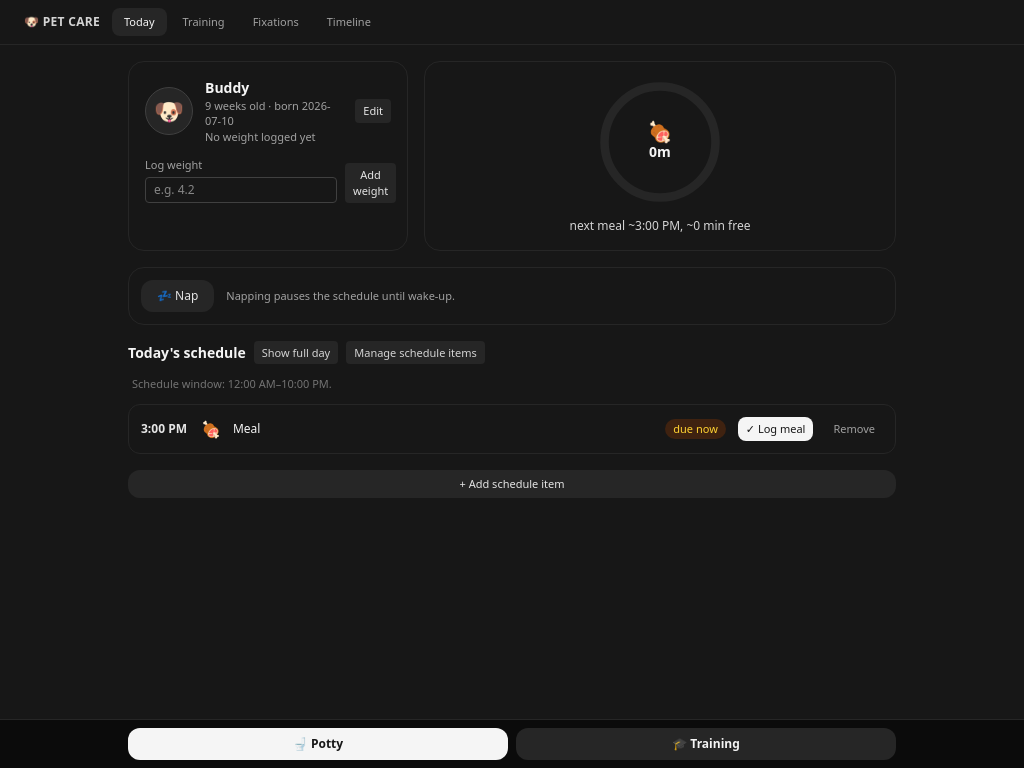
Test: PetPage › fulfills a due-now fixed item from its schedule card
Expected: the text "due now" is shown, [665, 419, 726, 439]
Click the button "✓ Log meal": (776, 429) [738, 417, 813, 441]
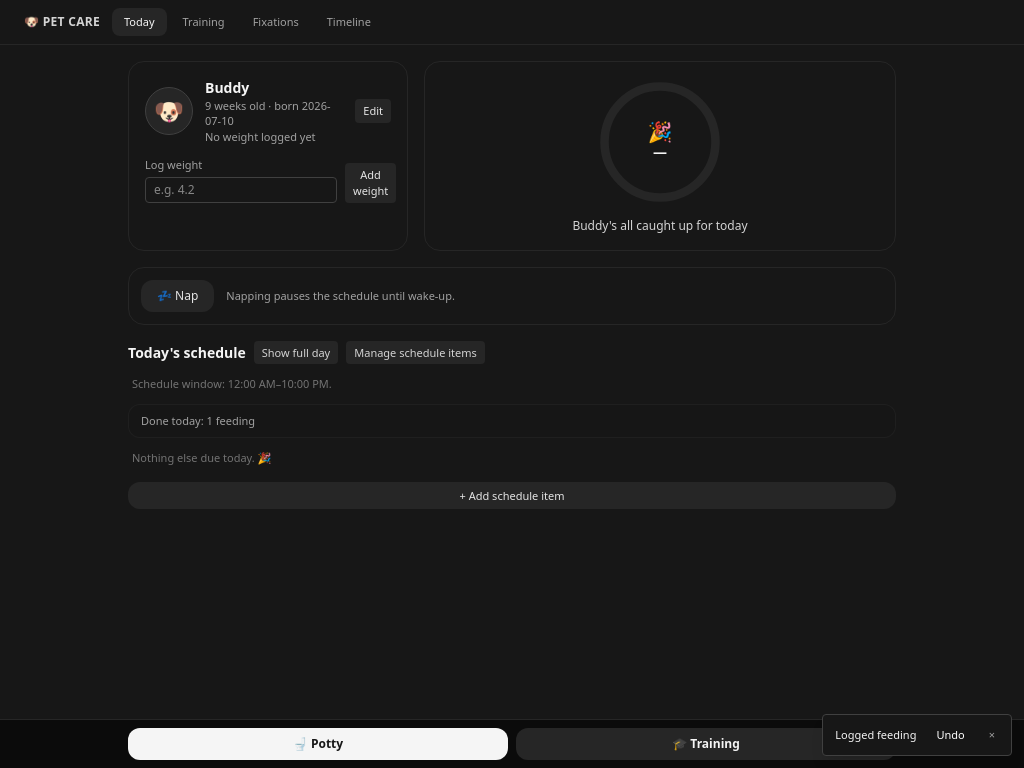
Now the text "due now" is gone
Click the button "Show full day": (296, 353) [254, 341, 338, 364]
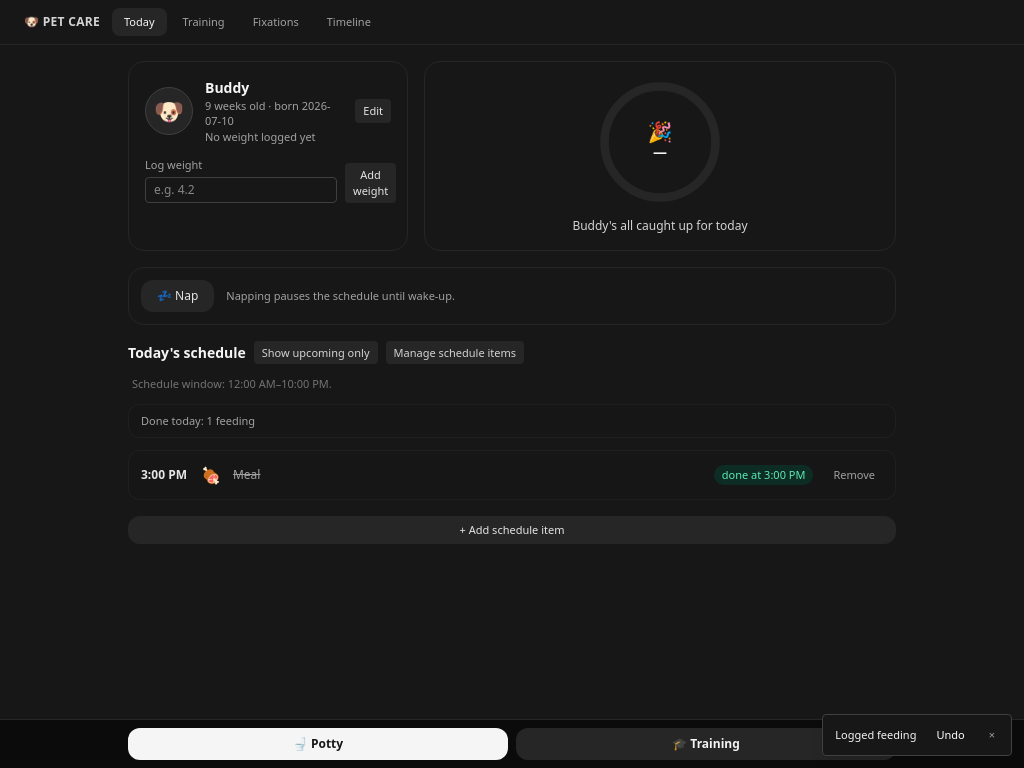
Now the text "done at 3:00 PM" is shown, box [714, 465, 813, 485]
